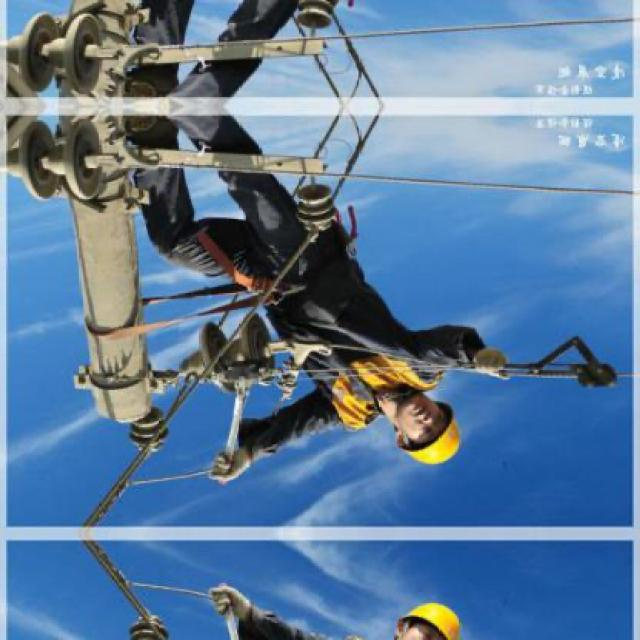con casco: (359, 357, 503, 491)
